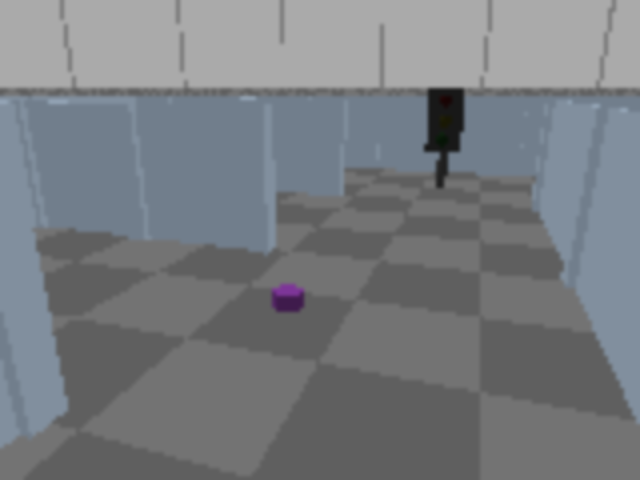puck: (274, 285, 303, 313)
